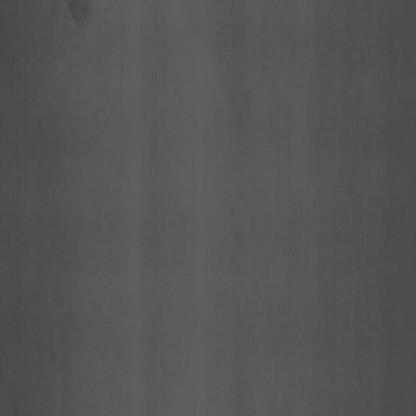water_spot: (54, 1, 92, 46)
